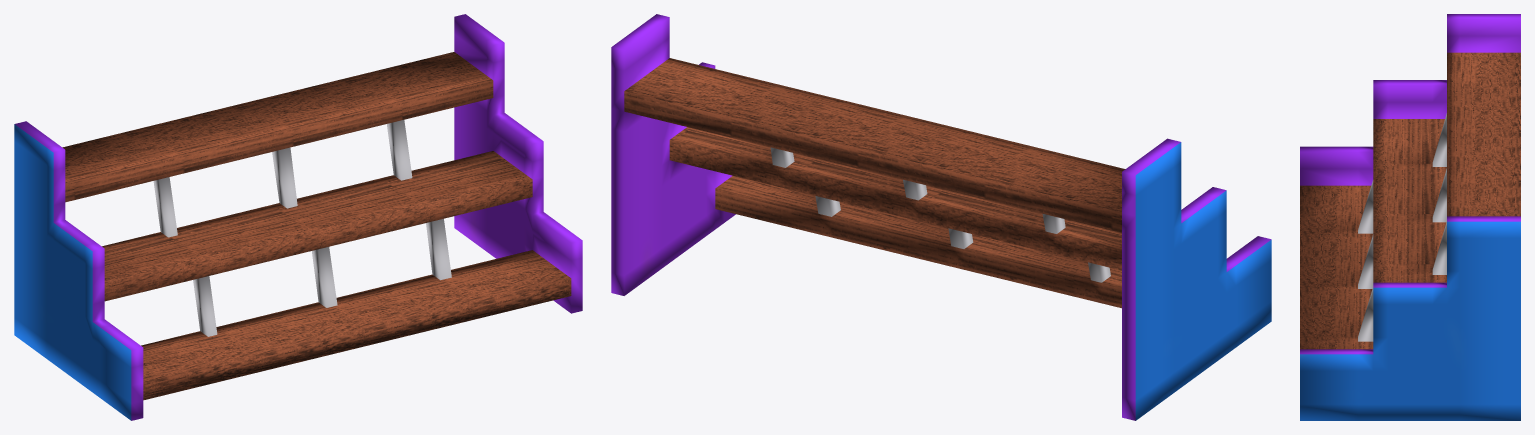
Rendered from untitlevbnd.fbx.
3 renders of one model, left to right at view 1: azimuth 30°, elevation 25°; view 2: azimuth 150°, elevation 25°; view 3: azimuth 270°, elevation 25°, orthographic. The views are drawn at different scales.
Visible parts, largest first — view 1: Cube; view 2: Cube; view 3: Cube.
Part boxes in pixels (x1,y1,x2,y2): Cube: (14, 14, 582, 420); Cube: (611, 14, 1271, 420); Cube: (1300, 14, 1520, 420).
Size of the model in its own units: 1338 by 599 by 601.
Materials: 1 (1 with a texture image).
